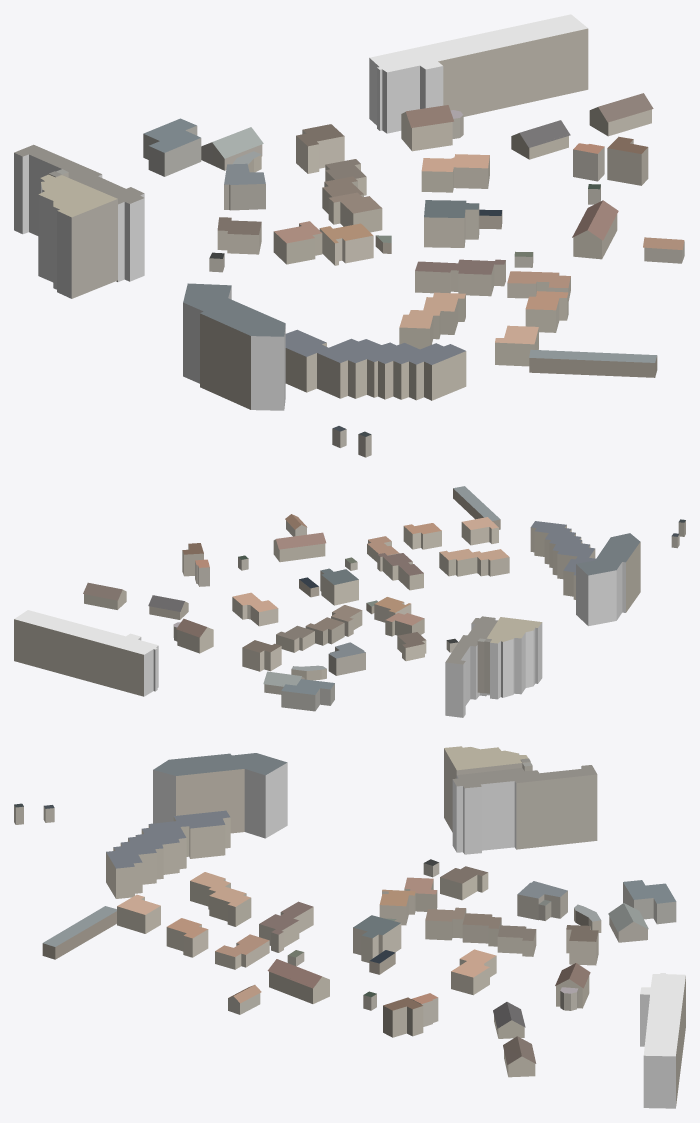
3 views of the same model, one above another, from view 1: azimuth 30°, elevation 25°; view 2: azimuth 150°, elevation 25°; view 3: azimuth 270°, elevation 25° (orthographic). The views are drawn at different scales.
Parts seen in each view (by area): view 1: tuile; view 2: tuile; view 3: tuile.
Part boxes in pixels (x1,y1,x2,y2): tuile: (14, 14, 684, 457); tuile: (14, 486, 685, 717); tuile: (14, 746, 685, 1108).
Size of the model in its own units: 206 by 34.83 by 219.
